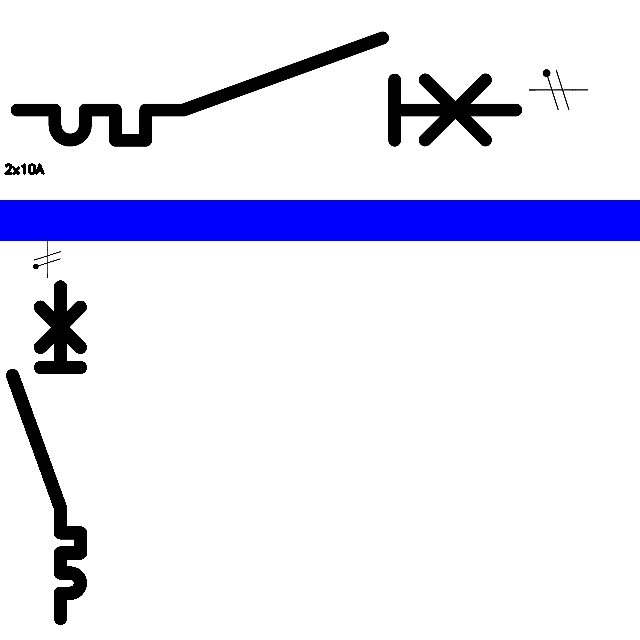interruptor_termomagnetico: (4, 25, 529, 153), (4, 278, 89, 626)
